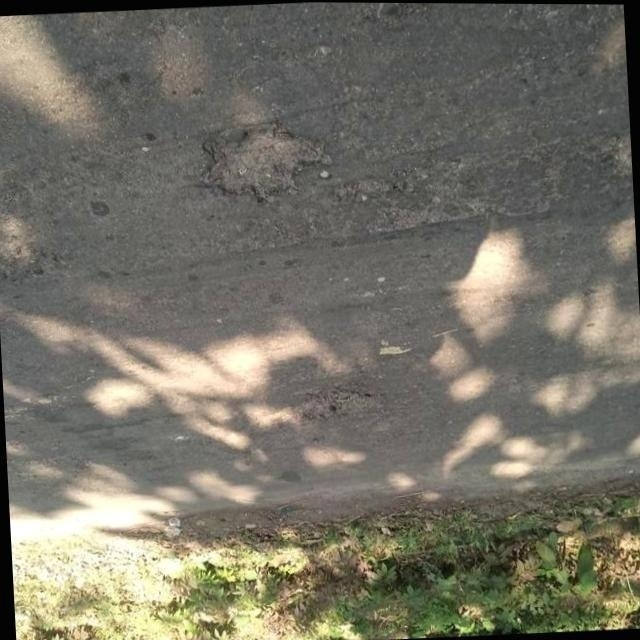pothole: (197, 111, 323, 205), (304, 384, 372, 432)
